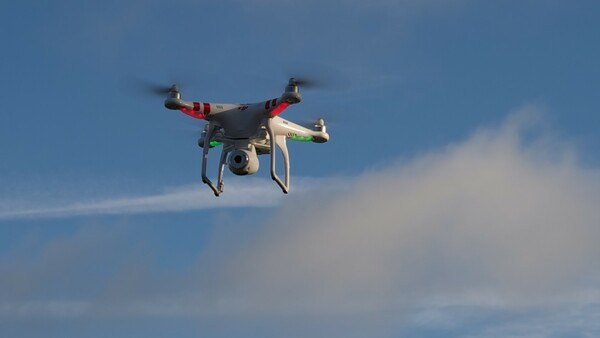drone: (142, 76, 335, 200)
